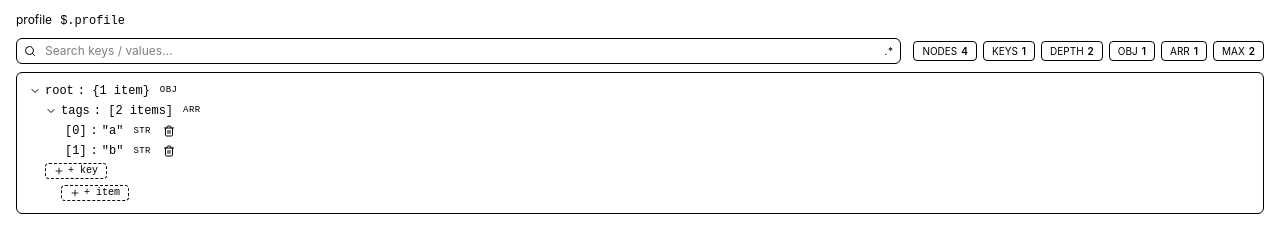
DocumentTreePanel › AC-344-C-02: clicking `+ item` reveals `[N]` label + value input (auto-focused)
Step 1. Click the button with test id "tree-add-item-tags" → (95, 193), box [61, 185, 129, 201]
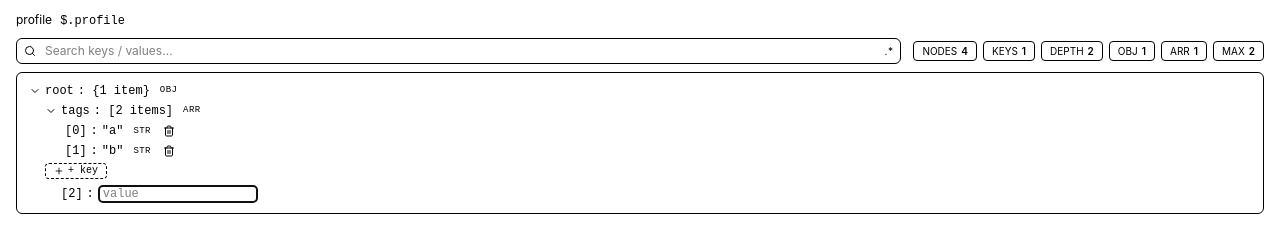
expect the field with test id "tree-add-item-input-tags" is shown: met, box [98, 185, 258, 203]
expect the text with test id "tree-add-item-index-tags" reads "[2]": met, box [61, 186, 83, 202]
